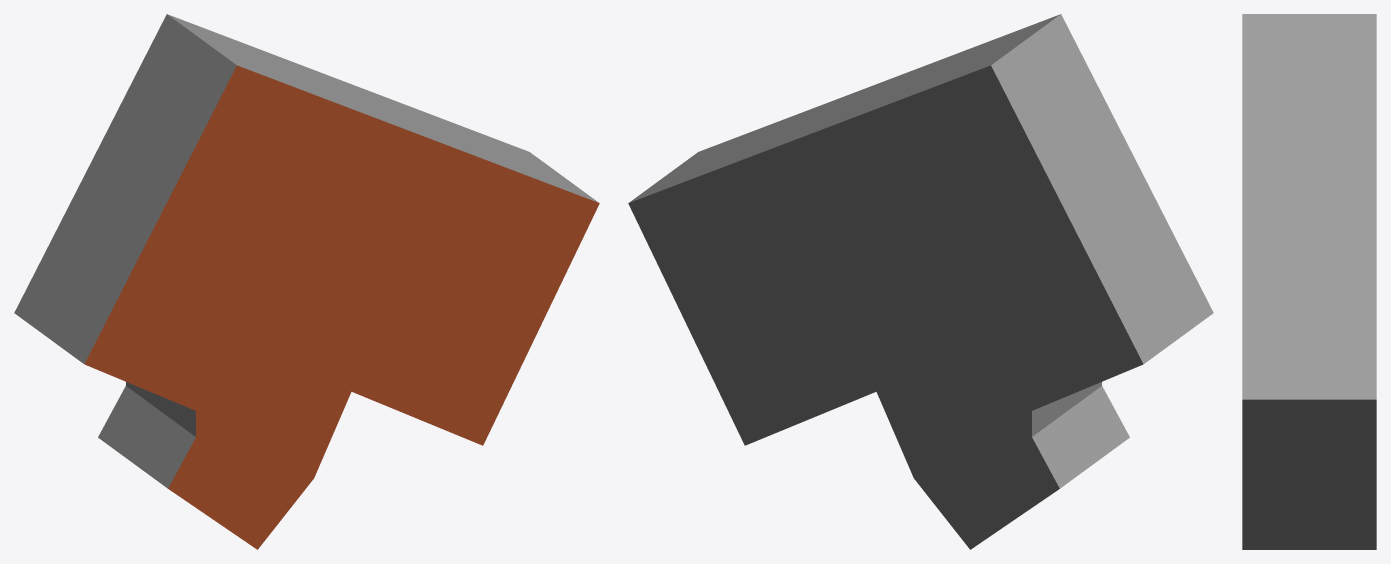
File: construction_2450_assumed_A_Casa_h6m.obj
3 renders of one model, left to right at view 1: azimuth 30°, elevation 25°; view 2: azimuth 150°, elevation 25°; view 3: azimuth 270°, elevation 25°, orthographic. The views are drawn at different scales.
Visible parts, largest first — view 1: construction_2450_assumed_A_Casa; view 2: construction_2450_assumed_A_Casa; view 3: construction_2450_assumed_A_Casa.
Part boxes in pixels (bbox=[...]): construction_2450_assumed_A_Casa: bbox=[14, 14, 599, 549]; construction_2450_assumed_A_Casa: bbox=[628, 14, 1213, 549]; construction_2450_assumed_A_Casa: bbox=[1242, 14, 1376, 549].
Size of the model in its own units: 25.44 by 23.09 by 6.
